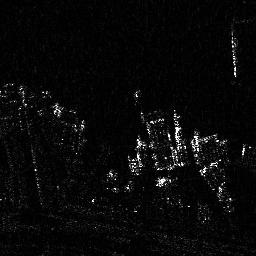ship: (229, 34, 239, 77)
